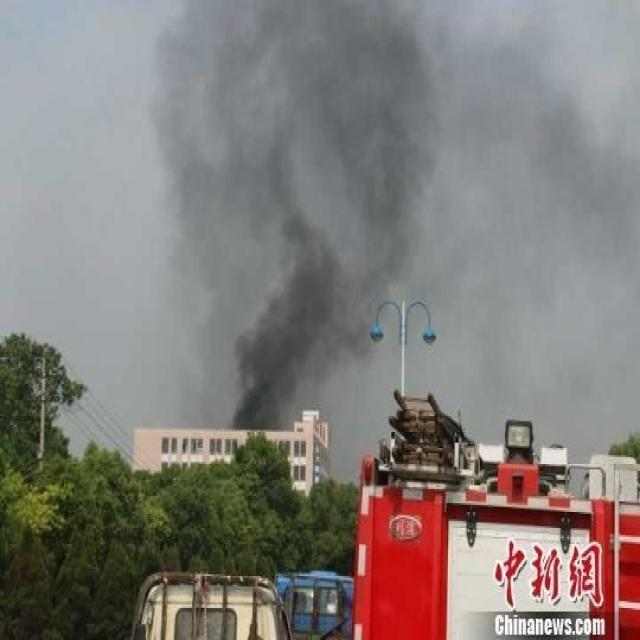Smoke: (148, 2, 448, 432)
